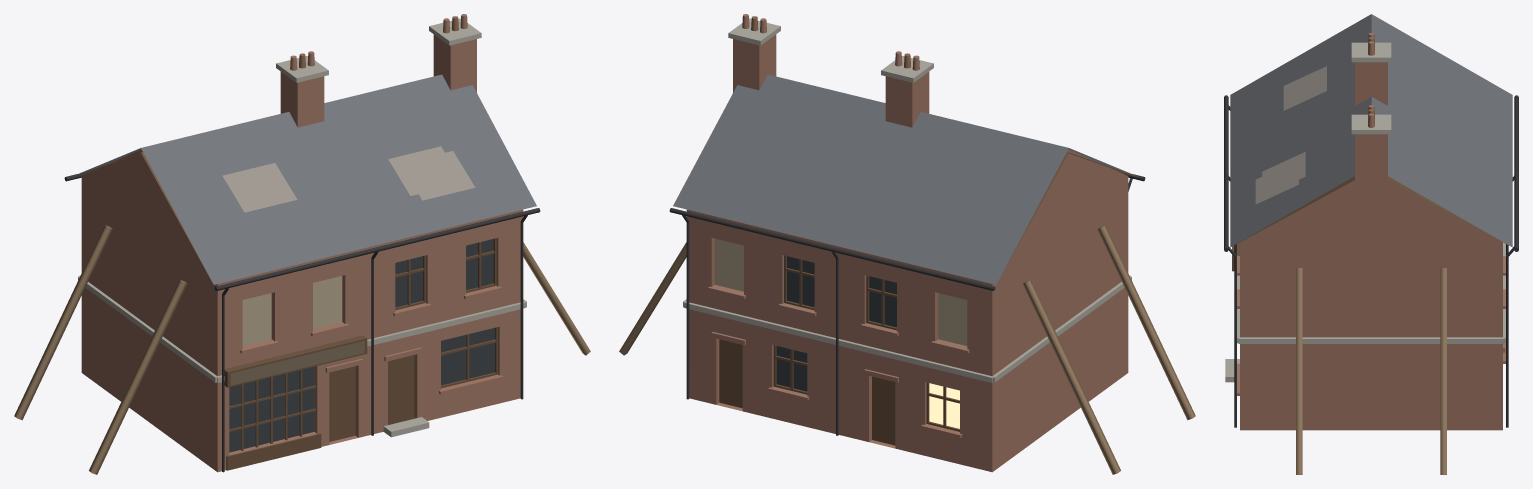
The model's file is shop.glb.
The picture shows the model from 3 angles, left to right: view 1: azimuth 30°, elevation 25°; view 2: azimuth 150°, elevation 25°; view 3: azimuth 270°, elevation 25°; orthographic projection. The views are drawn at different scales.
Parts seen in each view (by area): view 1: shop; view 2: shop; view 3: shop.
Boxes of the visible parts, x1=… form: shop: x1=14, y1=14, x2=590, y2=474; shop: x1=619, y1=14, x2=1195, y2=474; shop: x1=1224, y1=14, x2=1518, y2=474.
Bounding box in the file's own units: 16.97 × 10.8 × 8.98.
